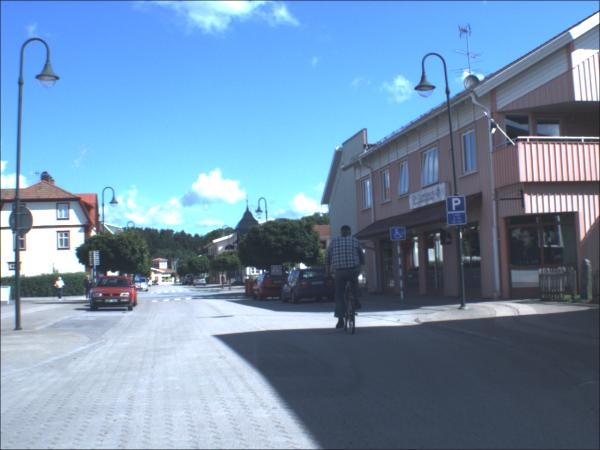PEDESTRIAN_CROSSING: (273, 266, 285, 277)
